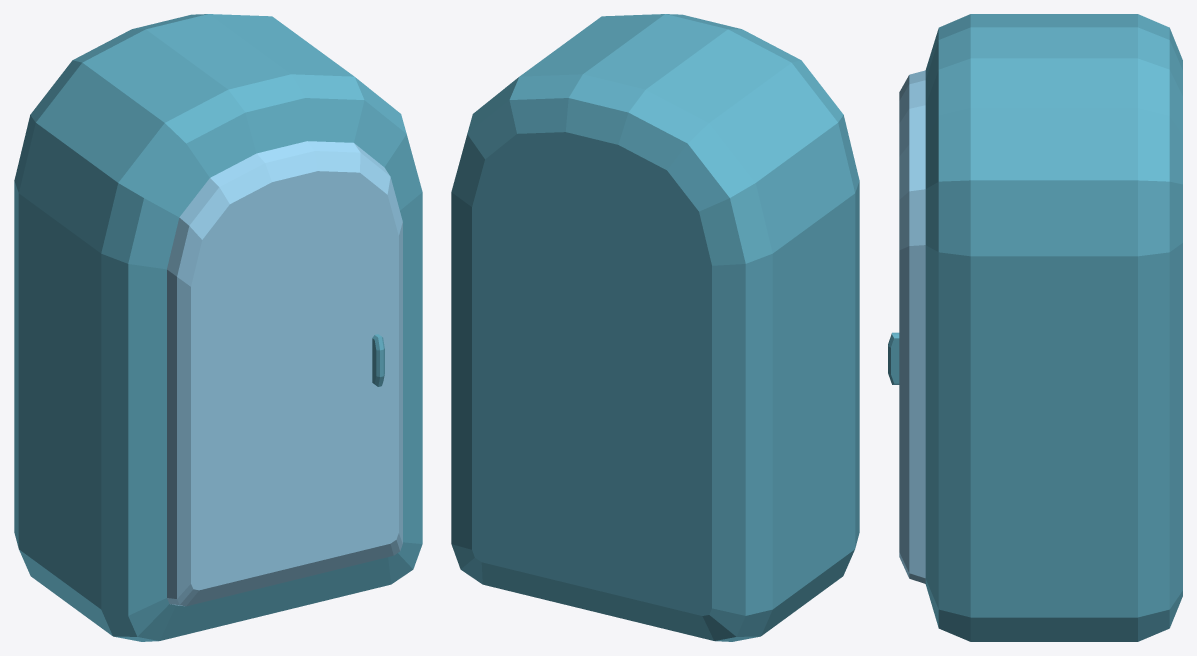
File: Fridge.fbx
3 views of the same model, side by side, from view 1: azimuth 30°, elevation 25°; view 2: azimuth 150°, elevation 25°; view 3: azimuth 270°, elevation 25° (orthographic).
Visible parts, largest first — view 1: Fridge; view 2: Fridge; view 3: Fridge.
Part boxes in pixels (bbox=[...]): Fridge: bbox=[14, 14, 422, 641]; Fridge: bbox=[451, 14, 859, 641]; Fridge: bbox=[888, 14, 1182, 641].
Bounding box in the file's own units: 1.06 × 1.7 × 0.8427.
1 material, 1 textured.
